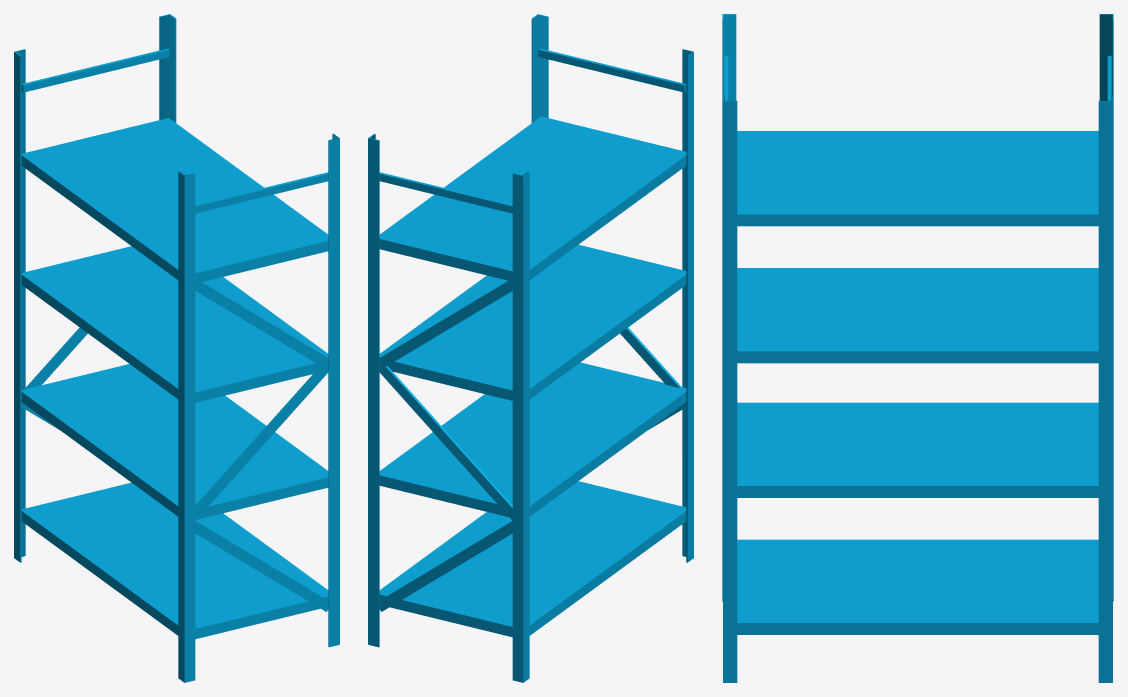
File: Warehouse_Shelf_02_Lod.fbx
3 views of the same model, side by side, from view 1: azimuth 30°, elevation 25°; view 2: azimuth 150°, elevation 25°; view 3: azimuth 270°, elevation 25° (orthographic). The views are drawn at different scales.
Parts seen in each view (by area): view 1: Warehouse_Shelf_02_Lod; view 2: Warehouse_Shelf_02_Lod; view 3: Warehouse_Shelf_02_Lod.
Part boxes in pixels (x1,y1,x2,y2): Warehouse_Shelf_02_Lod: [14, 14, 339, 682]; Warehouse_Shelf_02_Lod: [368, 14, 693, 682]; Warehouse_Shelf_02_Lod: [722, 14, 1113, 682].
Size of the model in its own units: 74.65 by 232 by 142.
